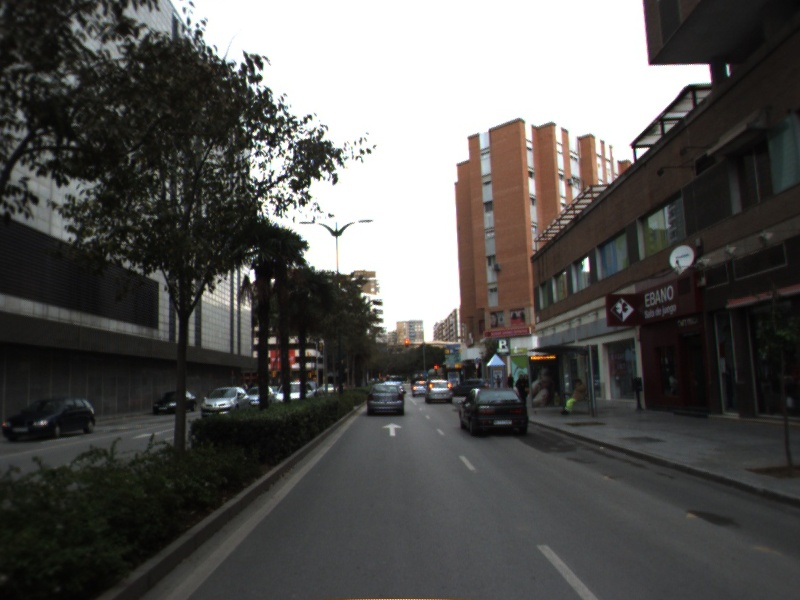STRAIGHT: (380, 421, 405, 438)
